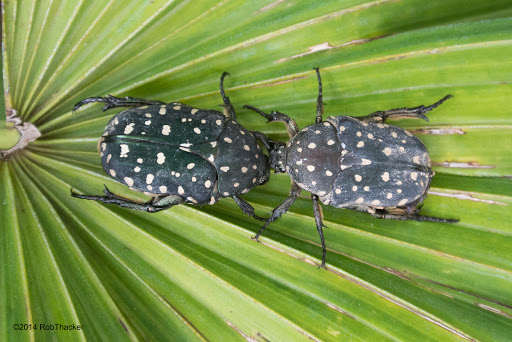Protaetia_niveoguttata: (271, 70, 467, 274), (54, 68, 279, 227)
